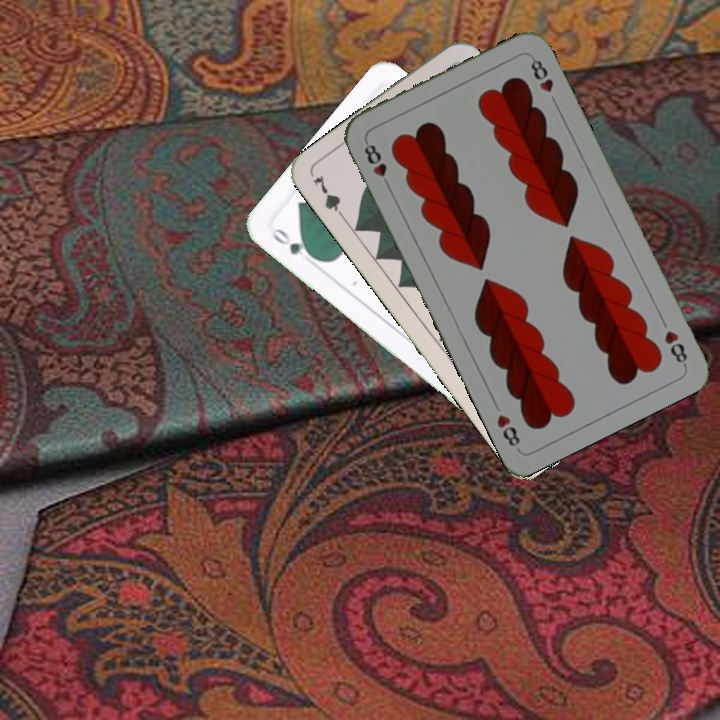G7: (308, 170, 350, 225)
GO: (267, 223, 320, 263)
H8: (360, 137, 394, 192), (660, 326, 690, 369)
